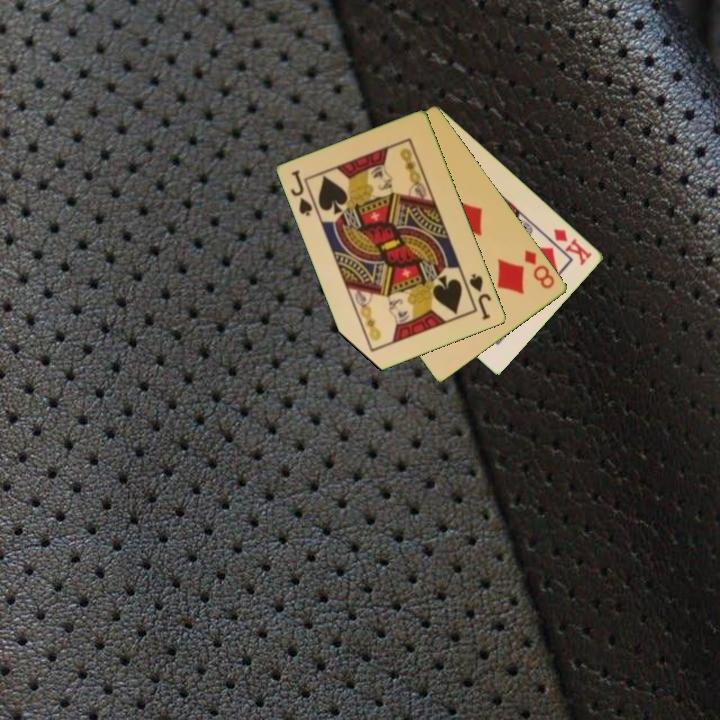8d: (521, 246, 558, 292)
Js: (466, 270, 495, 323), (287, 166, 316, 219)
Kd: (550, 225, 595, 268)
